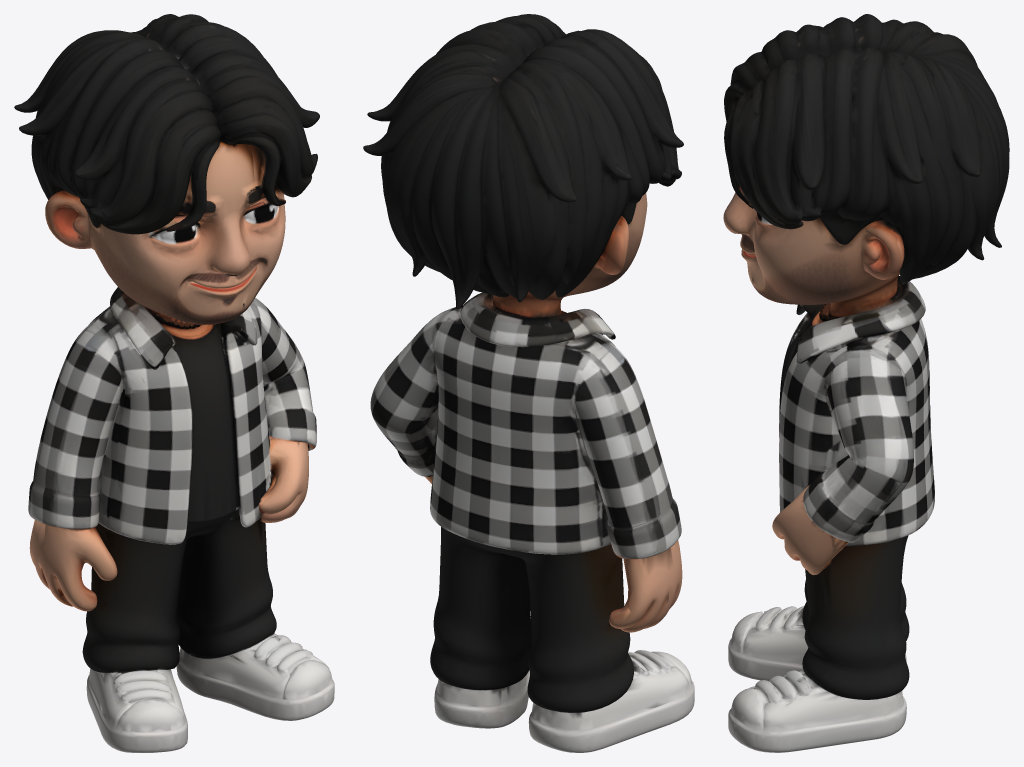
The model's file is personaje.glb.glb.
The picture shows the model from 3 angles, left to right: view 1: azimuth 30°, elevation 25°; view 2: azimuth 150°, elevation 25°; view 3: azimuth 270°, elevation 25°; orthographic projection. The views are drawn at different scales.
Parts seen in each view (by area): view 1: node_0; view 2: node_0; view 3: node_0.
Boxes of the visible parts, x1,y1,x2,y2 form: node_0: (14, 14, 334, 752); node_0: (363, 14, 694, 752); node_0: (723, 14, 1009, 752).
Size of the model in its own units: 0.4849 by 1.1 by 0.4296.
1 material, 1 textured.
